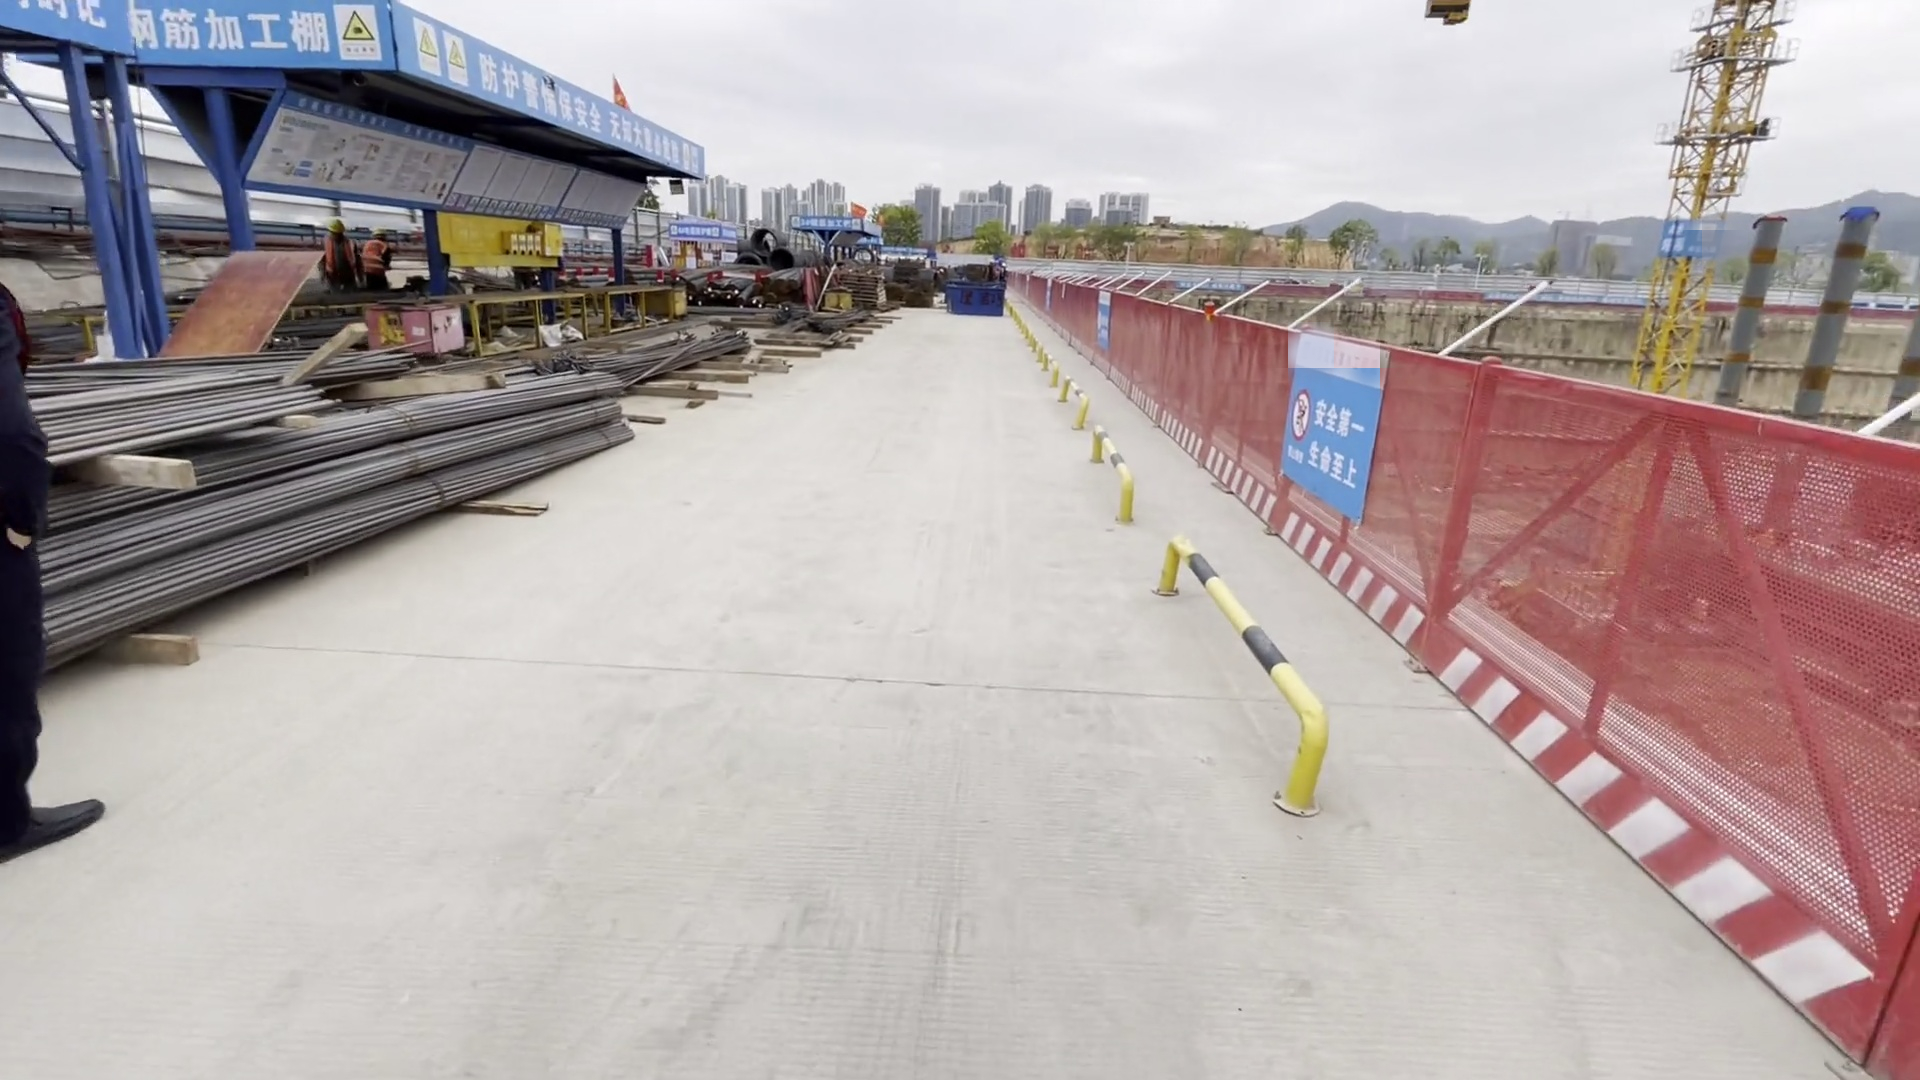ebox: (492, 216, 573, 255)
fence: (1373, 366, 1920, 1078), (1007, 255, 1334, 528)
helmet: (327, 219, 346, 232), (372, 228, 386, 236)
hopper: (948, 280, 1005, 314)
person: (315, 215, 362, 298), (359, 230, 391, 295)
rebar: (1, 360, 641, 637), (1, 340, 427, 458), (560, 274, 810, 308), (797, 305, 873, 338)
slogan: (272, 1, 725, 237), (1281, 345, 1392, 522)
vest: (321, 238, 358, 274), (362, 239, 393, 276)
